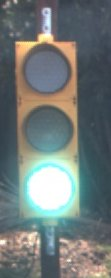Green: (12, 25, 102, 237)
